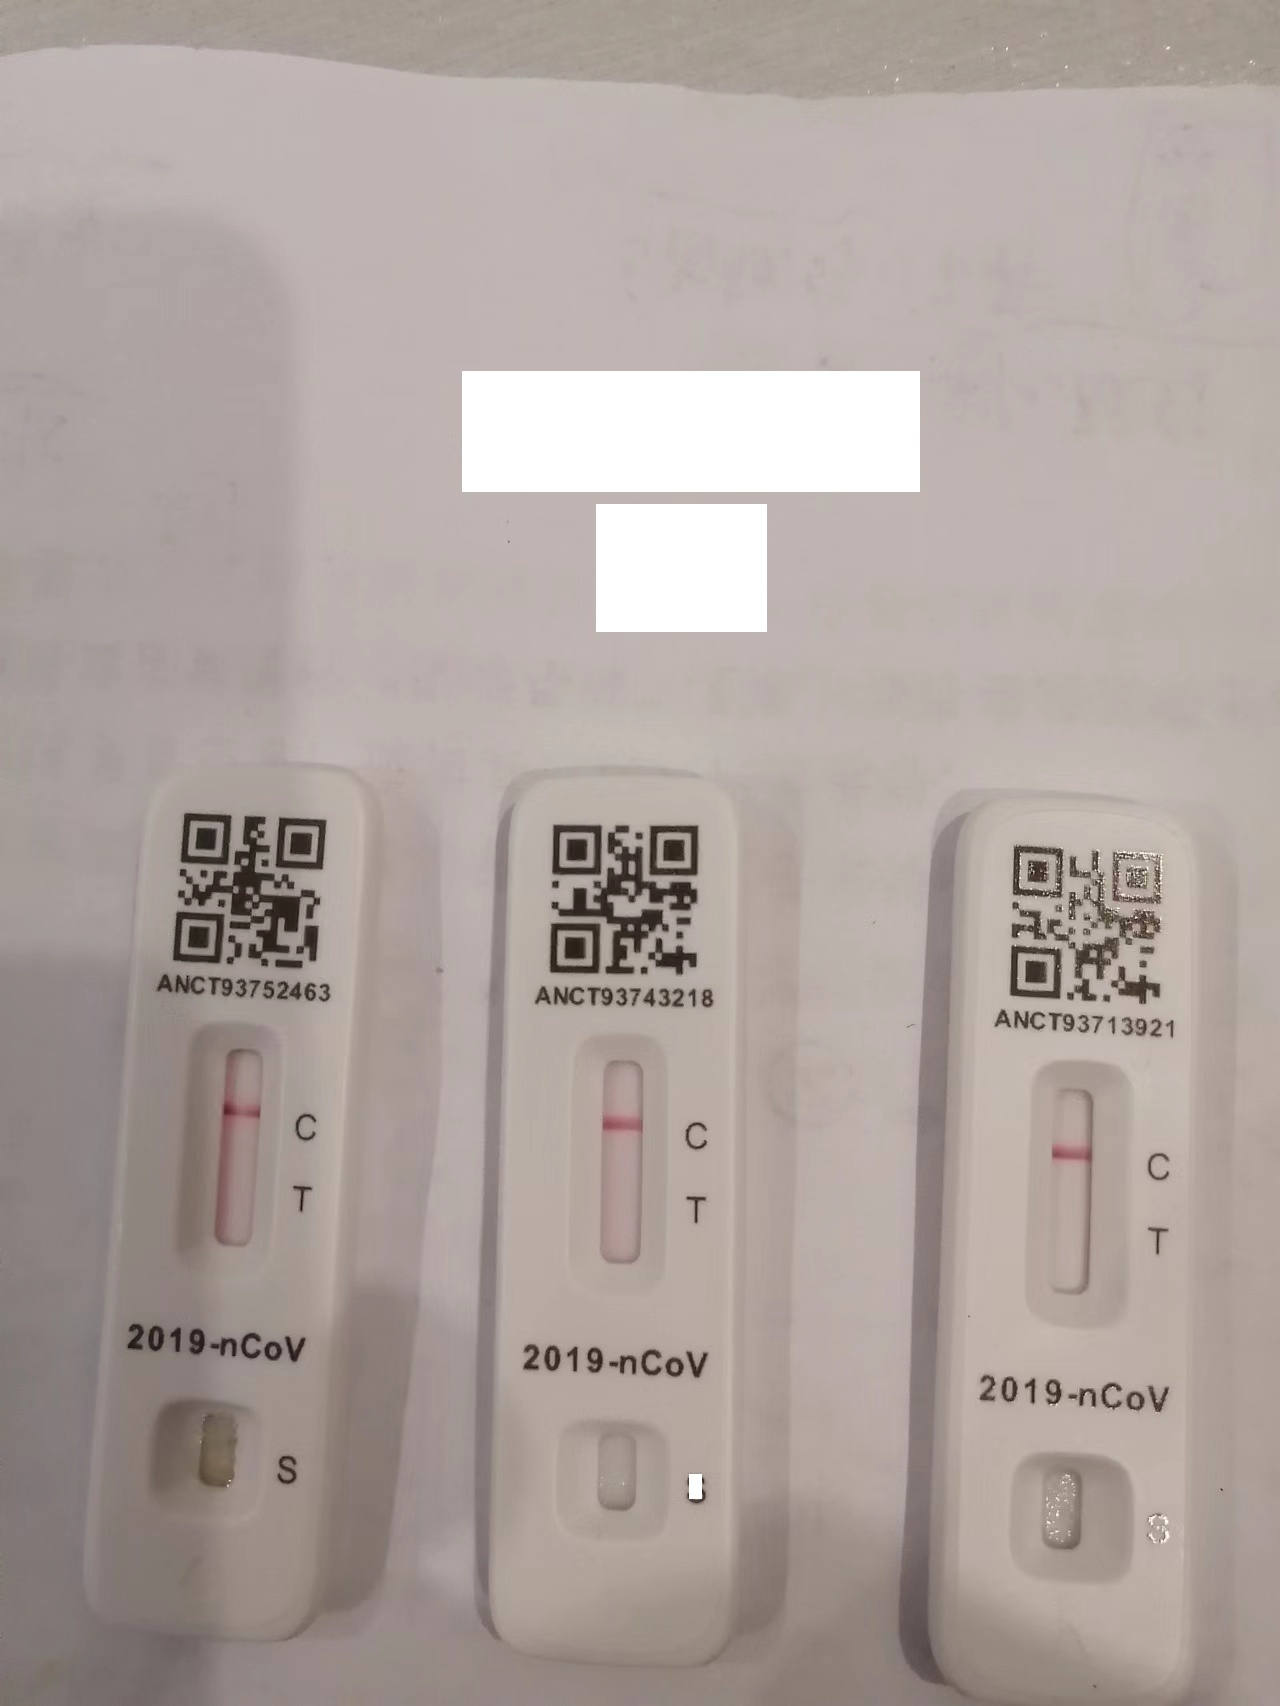negative: (1026, 1059, 1133, 1326), (569, 1038, 674, 1277), (184, 1020, 281, 1254)
